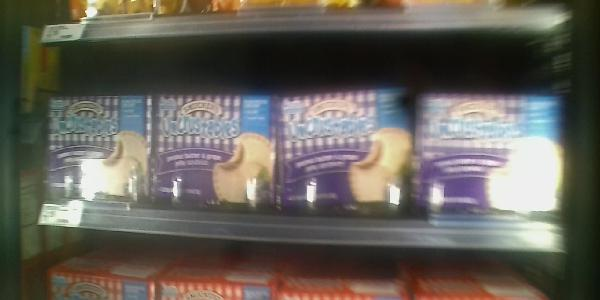icecream: (411, 82, 573, 242), (278, 85, 412, 233), (151, 77, 274, 235), (38, 86, 154, 218)
